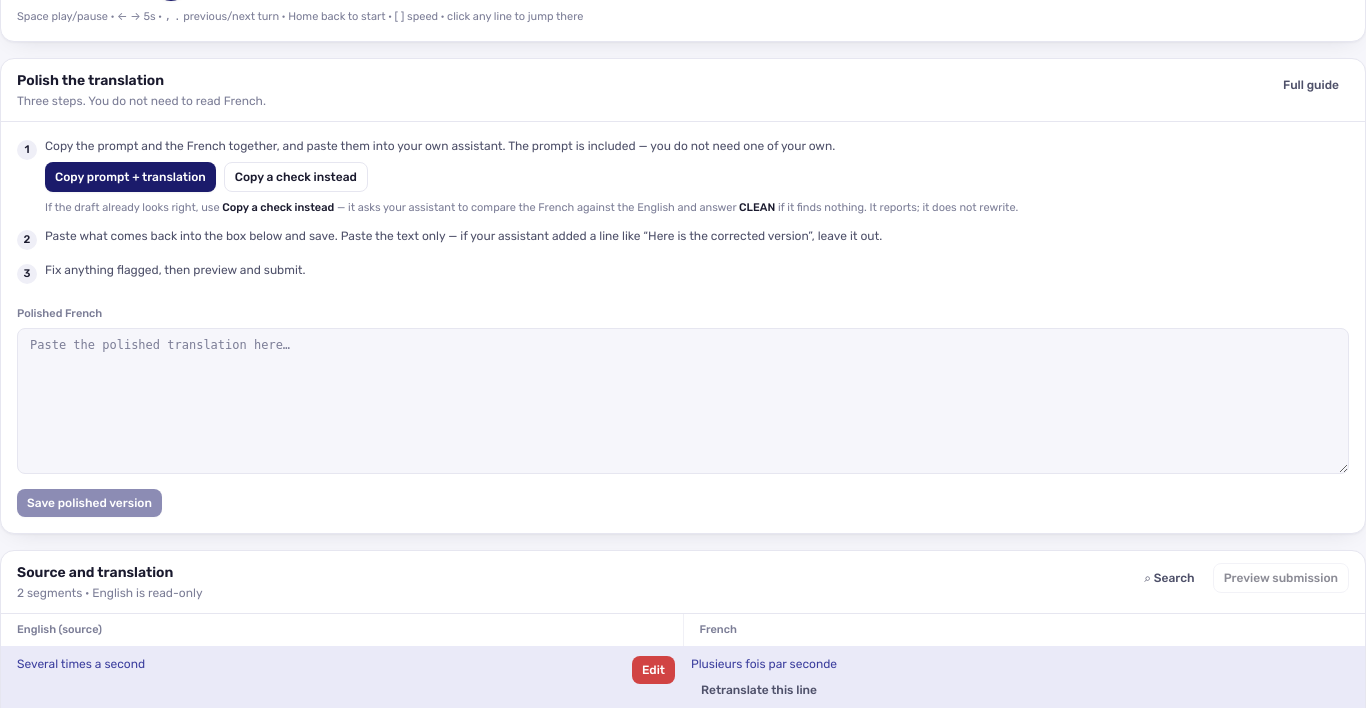
Test: the polish round trip › gives a quoted VERIFY AGAINST AUDIO item a Find button that jumps to the matching English row
(page scrolled)
Expected: the text "Plusieurs fois par seconde" is shown, [691, 656, 837, 672]
Type "Texte poli" into the text box labelled "Polished French" at (683, 401), box [17, 328, 1349, 474]
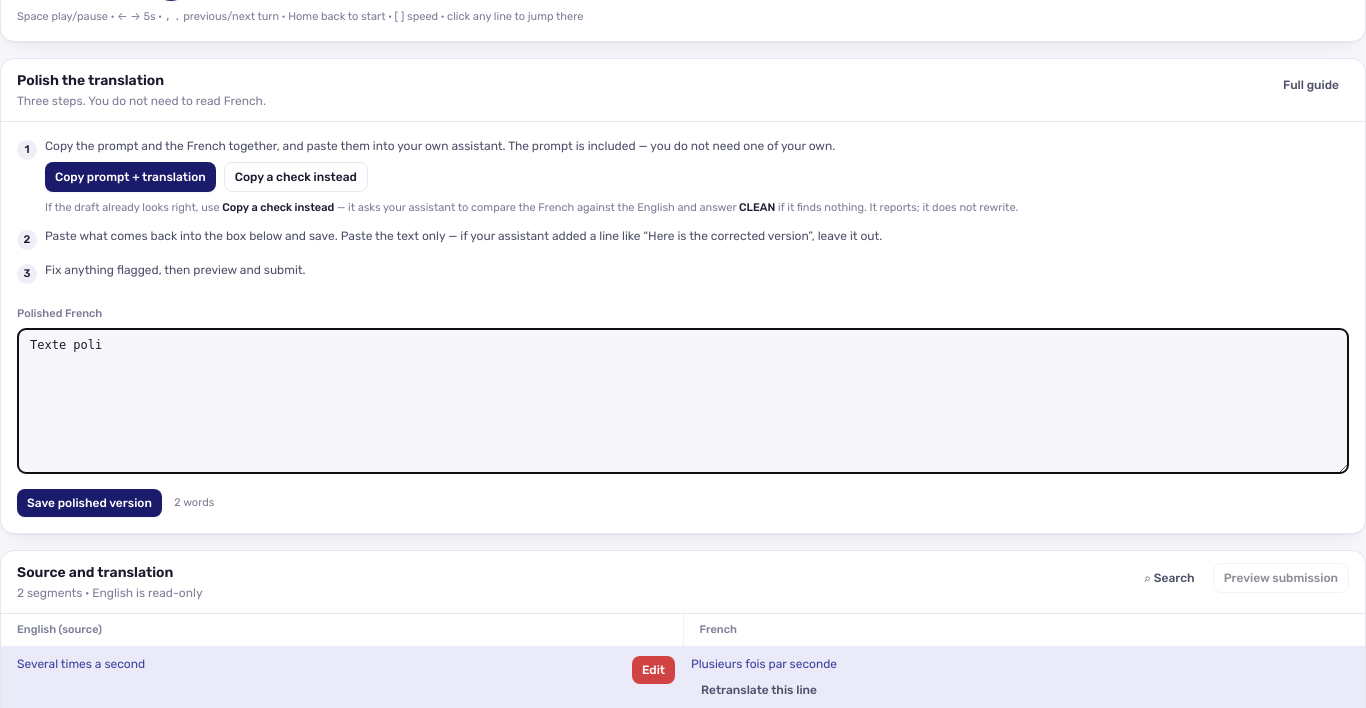
Click the button "Save polished version" at (89, 503), box [17, 489, 162, 517]
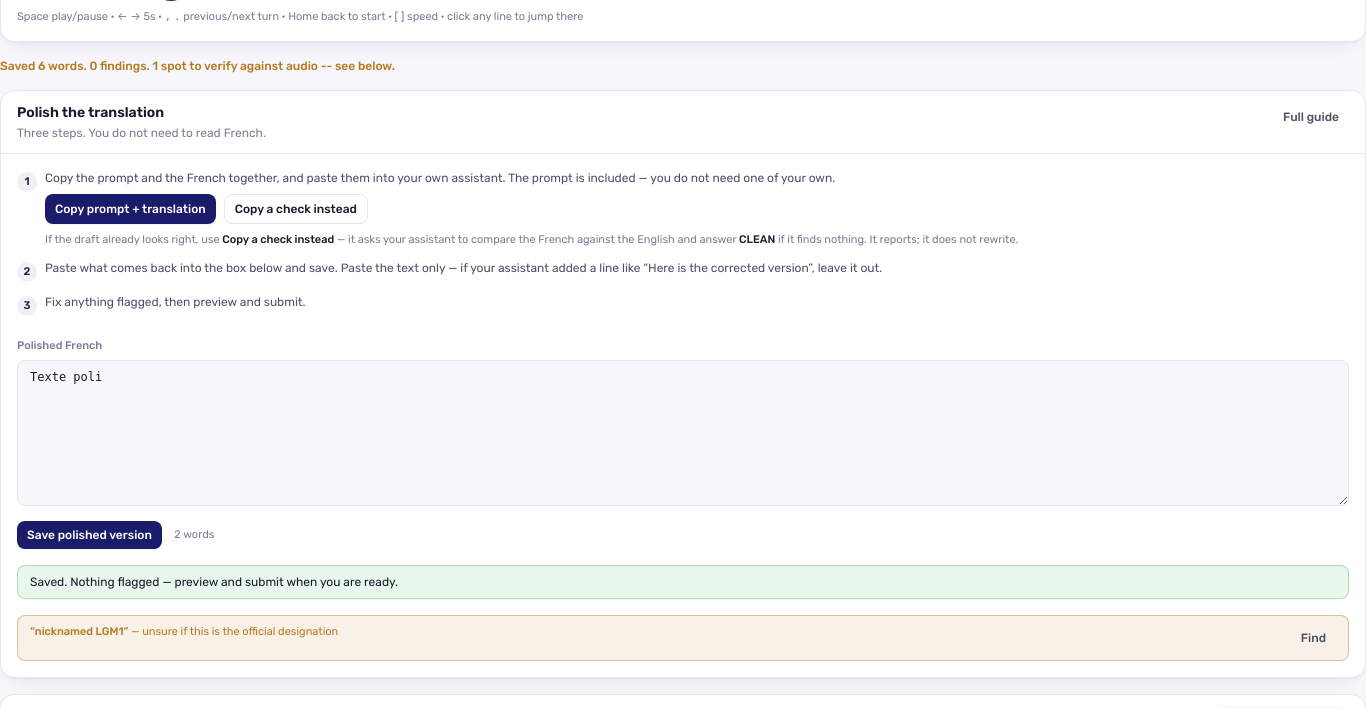
Result: the text "unsure if this is the official designation" is shown at [142, 625, 338, 638]
Result: the text "“nicknamed LGM1”" is shown at [30, 625, 128, 638]
Click the button "Find" at (1313, 638), box [1291, 624, 1336, 652]
(page scrolled)
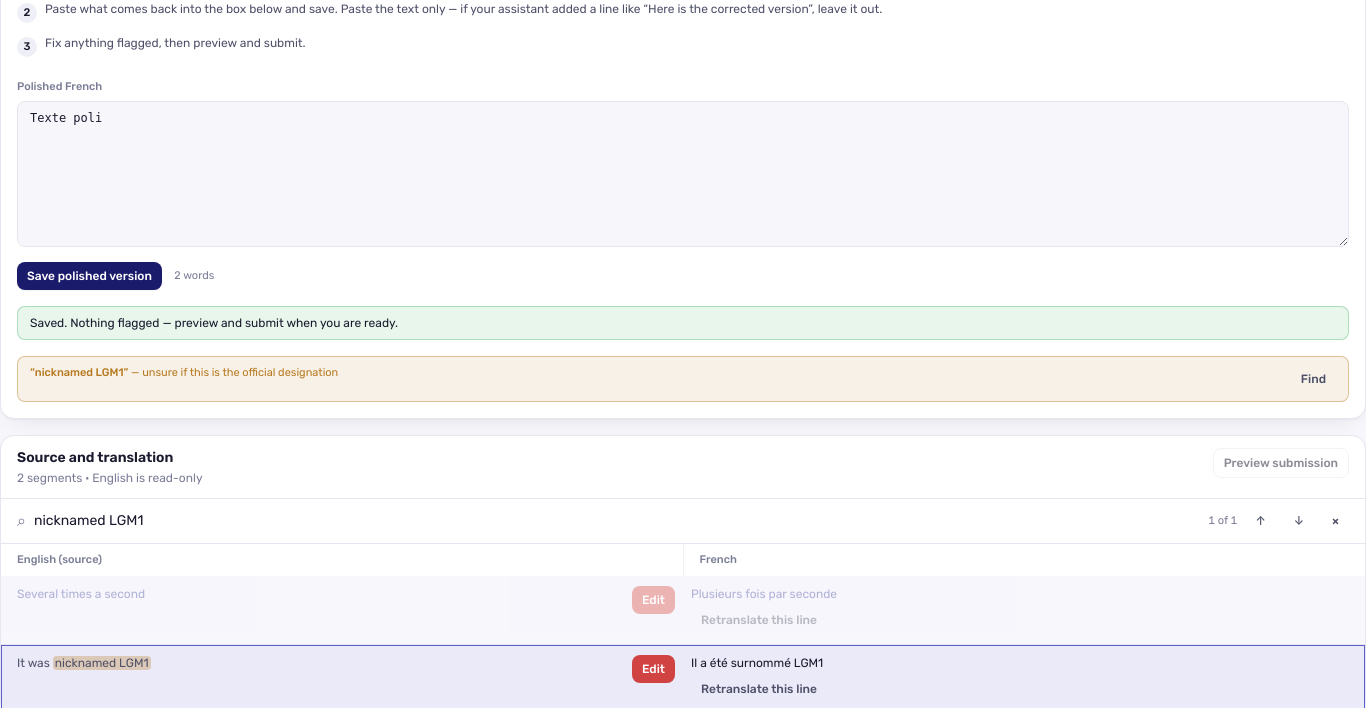
Result: the field with placeholder "Search the English…" holds "nicknamed LGM1" at [34, 511, 1200, 531]
Result: the text "1 of 1" is shown at [1208, 513, 1238, 529]
